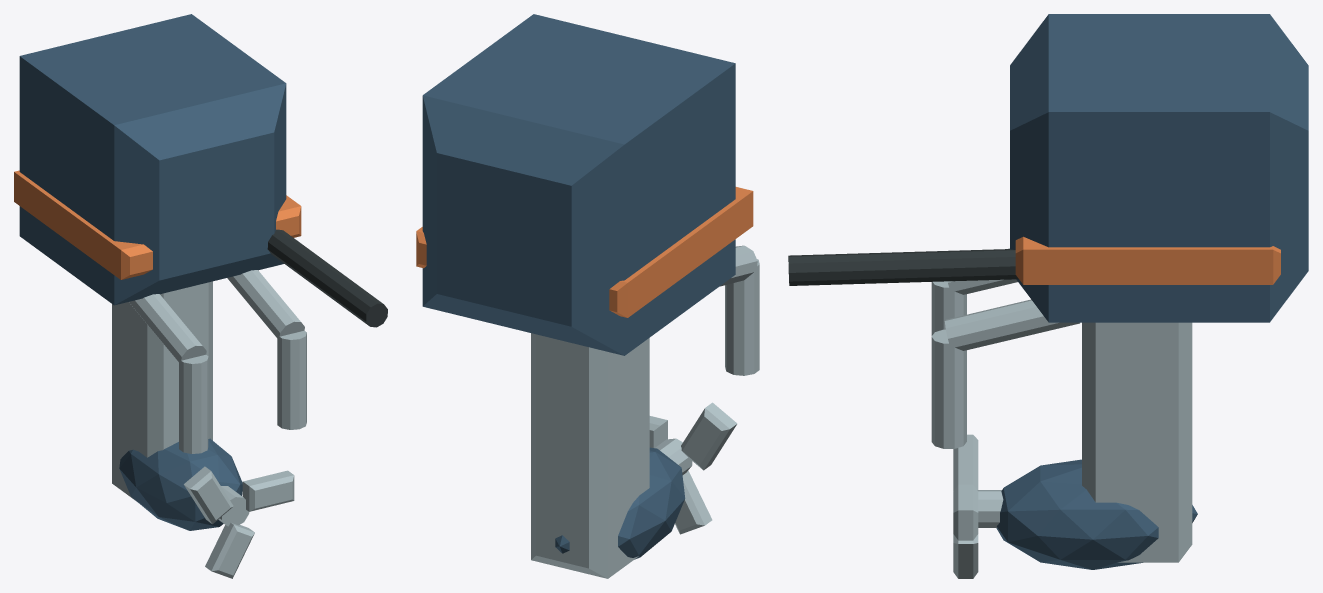
Rendered from harbor-and-tackle-outboard-motor-06719fa9__19551.glb.
3 views of the same model, side by side, from view 1: azimuth 30°, elevation 25°; view 2: azimuth 150°, elevation 25°; view 3: azimuth 270°, elevation 25° (orthographic). The views are drawn at different scales.
Visible parts, largest first — view 1: navy, metal, orange, rubber; view 2: navy, metal, orange; view 3: navy, metal, orange, rubber.
Boxes of the visible parts, <box> form: navy: <box>19,14,286,530</box>; metal: <box>112,270,306,578</box>; orange: <box>14,170,301,279</box>; rubber: <box>267,229,387,327</box>; navy: <box>422,14,735,559</box>; metal: <box>531,245,759,578</box>; orange: <box>416,187,753,317</box>; navy: <box>996,14,1308,569</box>; metal: <box>931,248,1192,578</box>; orange: <box>1015,236,1280,284</box>; rubber: <box>788,249,1018,285</box>.
Size of the model in its own units: 0.44 by 1.04 by 0.9409.
